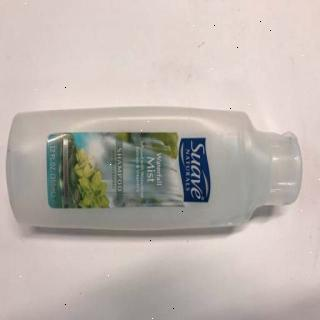Plastic-bottle: (6, 106, 304, 234)
